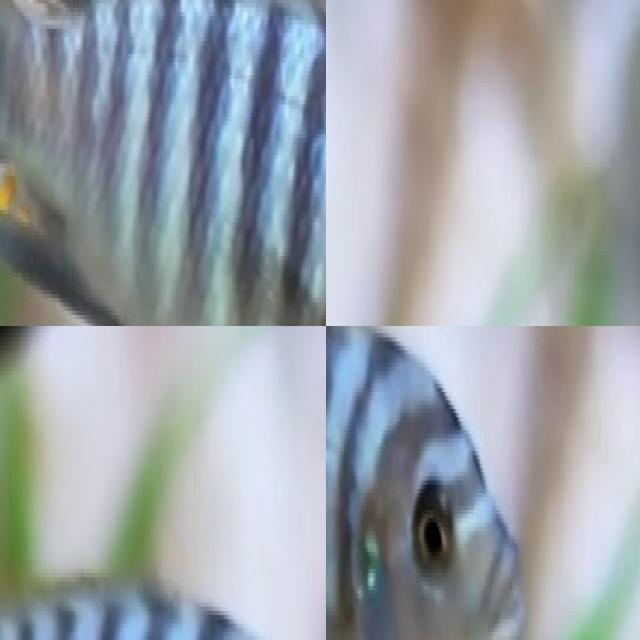fish: (0, 0, 326, 326), (0, 522, 326, 640)
